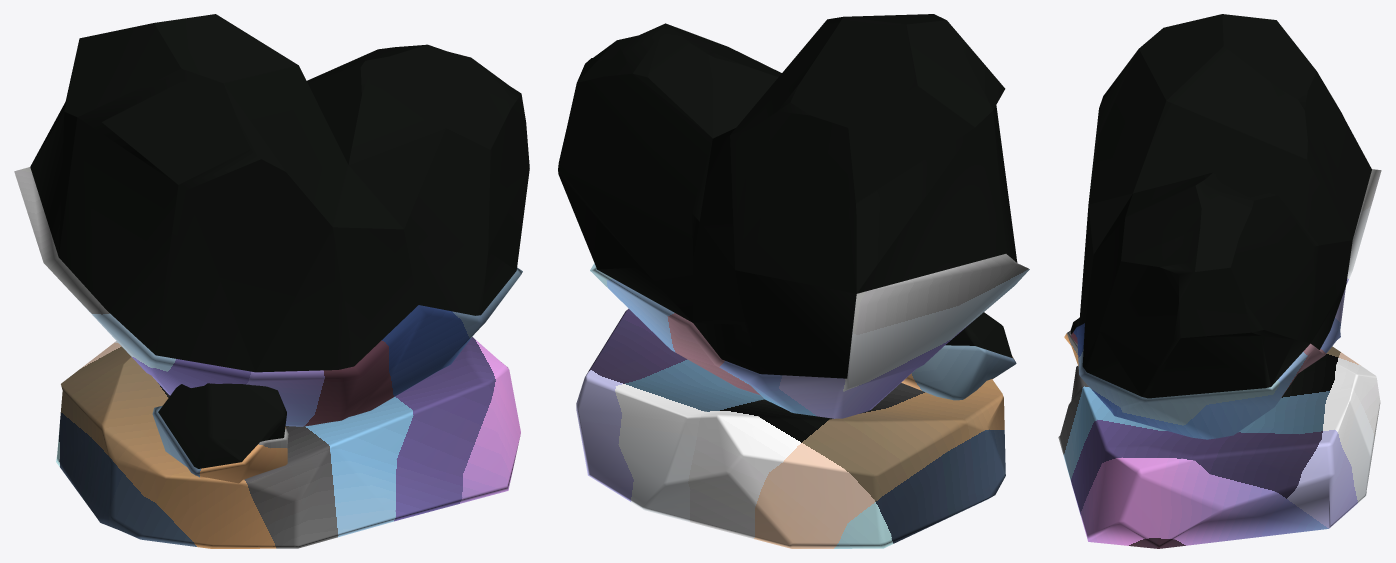
The model's file is Prop_MeteorHeartDown.glb.
The picture shows the model from 3 angles, left to right: view 1: azimuth 30°, elevation 25°; view 2: azimuth 150°, elevation 25°; view 3: azimuth 270°, elevation 25°; orthographic projection. The views are drawn at different scales.
Parts seen in each view (by area): view 1: Prop_MeteorHeartDown; view 2: Prop_MeteorHeartDown; view 3: Prop_MeteorHeartDown.
Part boxes in pixels (x1,y1,x2,y2): Prop_MeteorHeartDown: (14, 14, 529, 548); Prop_MeteorHeartDown: (558, 14, 1029, 548); Prop_MeteorHeartDown: (1058, 14, 1381, 548).
Bounding box in the file's own units: 2.57 × 2.57 × 1.83.
1 material, 1 textured.
